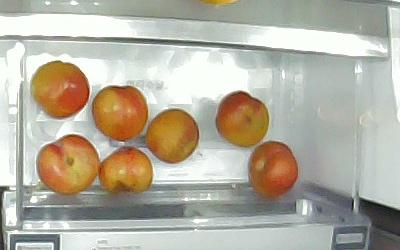prune: (37, 135, 100, 195), (30, 60, 90, 119), (92, 86, 149, 141), (215, 91, 270, 147), (145, 107, 199, 163), (248, 139, 298, 197), (100, 145, 154, 193)
